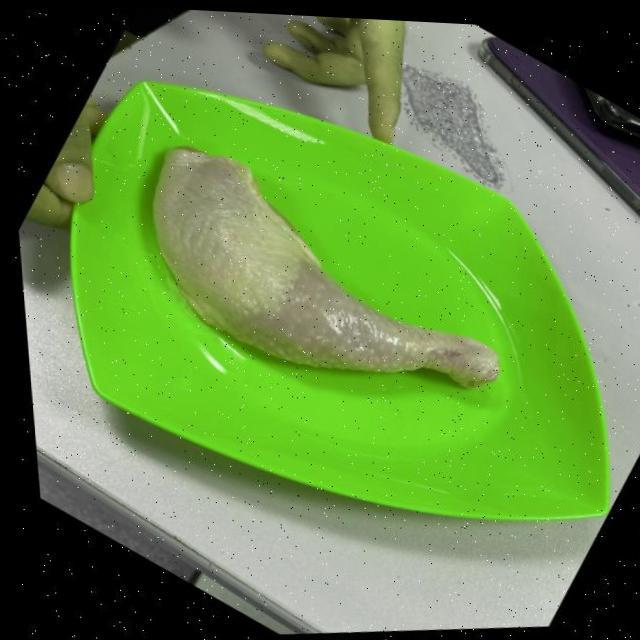quater: (156, 142, 496, 393)
